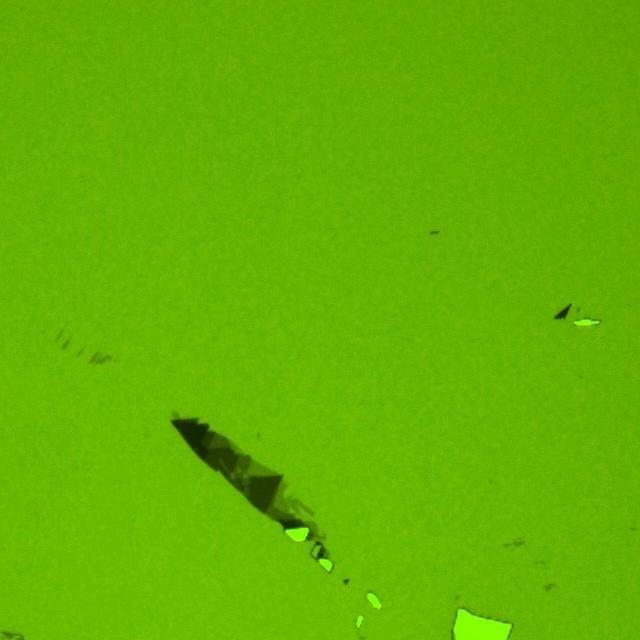monolayer-eWW4: (275, 479, 304, 516), (246, 456, 279, 478)
